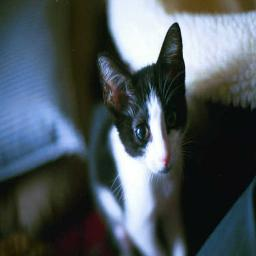catnose: (158, 150, 172, 171)
